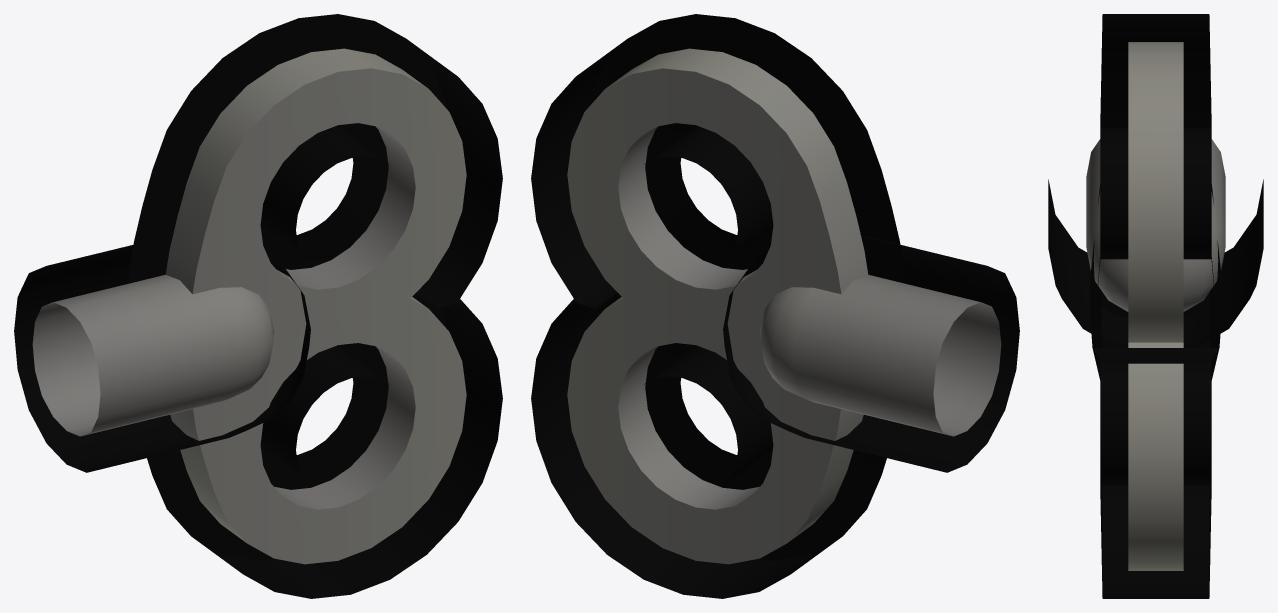
Rendered from periscope_crank_backFace.fbx.
3 views of the same model, side by side, from view 1: azimuth 30°, elevation 25°; view 2: azimuth 150°, elevation 25°; view 3: azimuth 270°, elevation 25° (orthographic). The views are drawn at different scales.
Parts seen in each view (by area): view 1: crank; view 2: crank; view 3: crank.
Part boxes in pixels (x1,y1,x2,y2): crank: [14, 14, 502, 598]; crank: [531, 14, 1019, 598]; crank: [1048, 14, 1263, 598].
Bounding box in the file's own units: 42.81 × 53.69 × 18.99.
